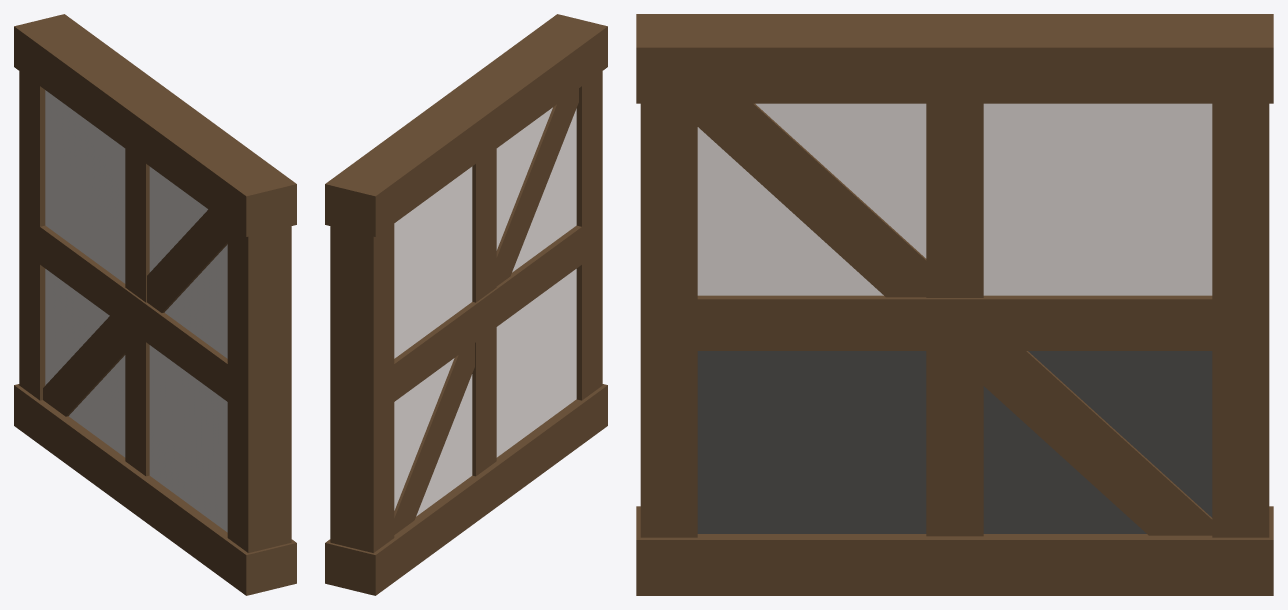
Rendered from Wall11.fbx.
The picture shows the model from 3 angles, left to right: view 1: azimuth 30°, elevation 25°; view 2: azimuth 150°, elevation 25°; view 3: azimuth 270°, elevation 25°; orthographic projection. The views are drawn at different scales.
Visible parts, largest first — view 1: Wall_09; view 2: Wall_09; view 3: Wall_09.
Boxes of the visible parts, x1=… form: Wall_09: x1=14, y1=14, x2=296, y2=595; Wall_09: x1=325, y1=14, x2=607, y2=595; Wall_09: x1=636, y1=14, x2=1273, y2=595.
Size of the model in its own units: 28 by 212 by 223.
